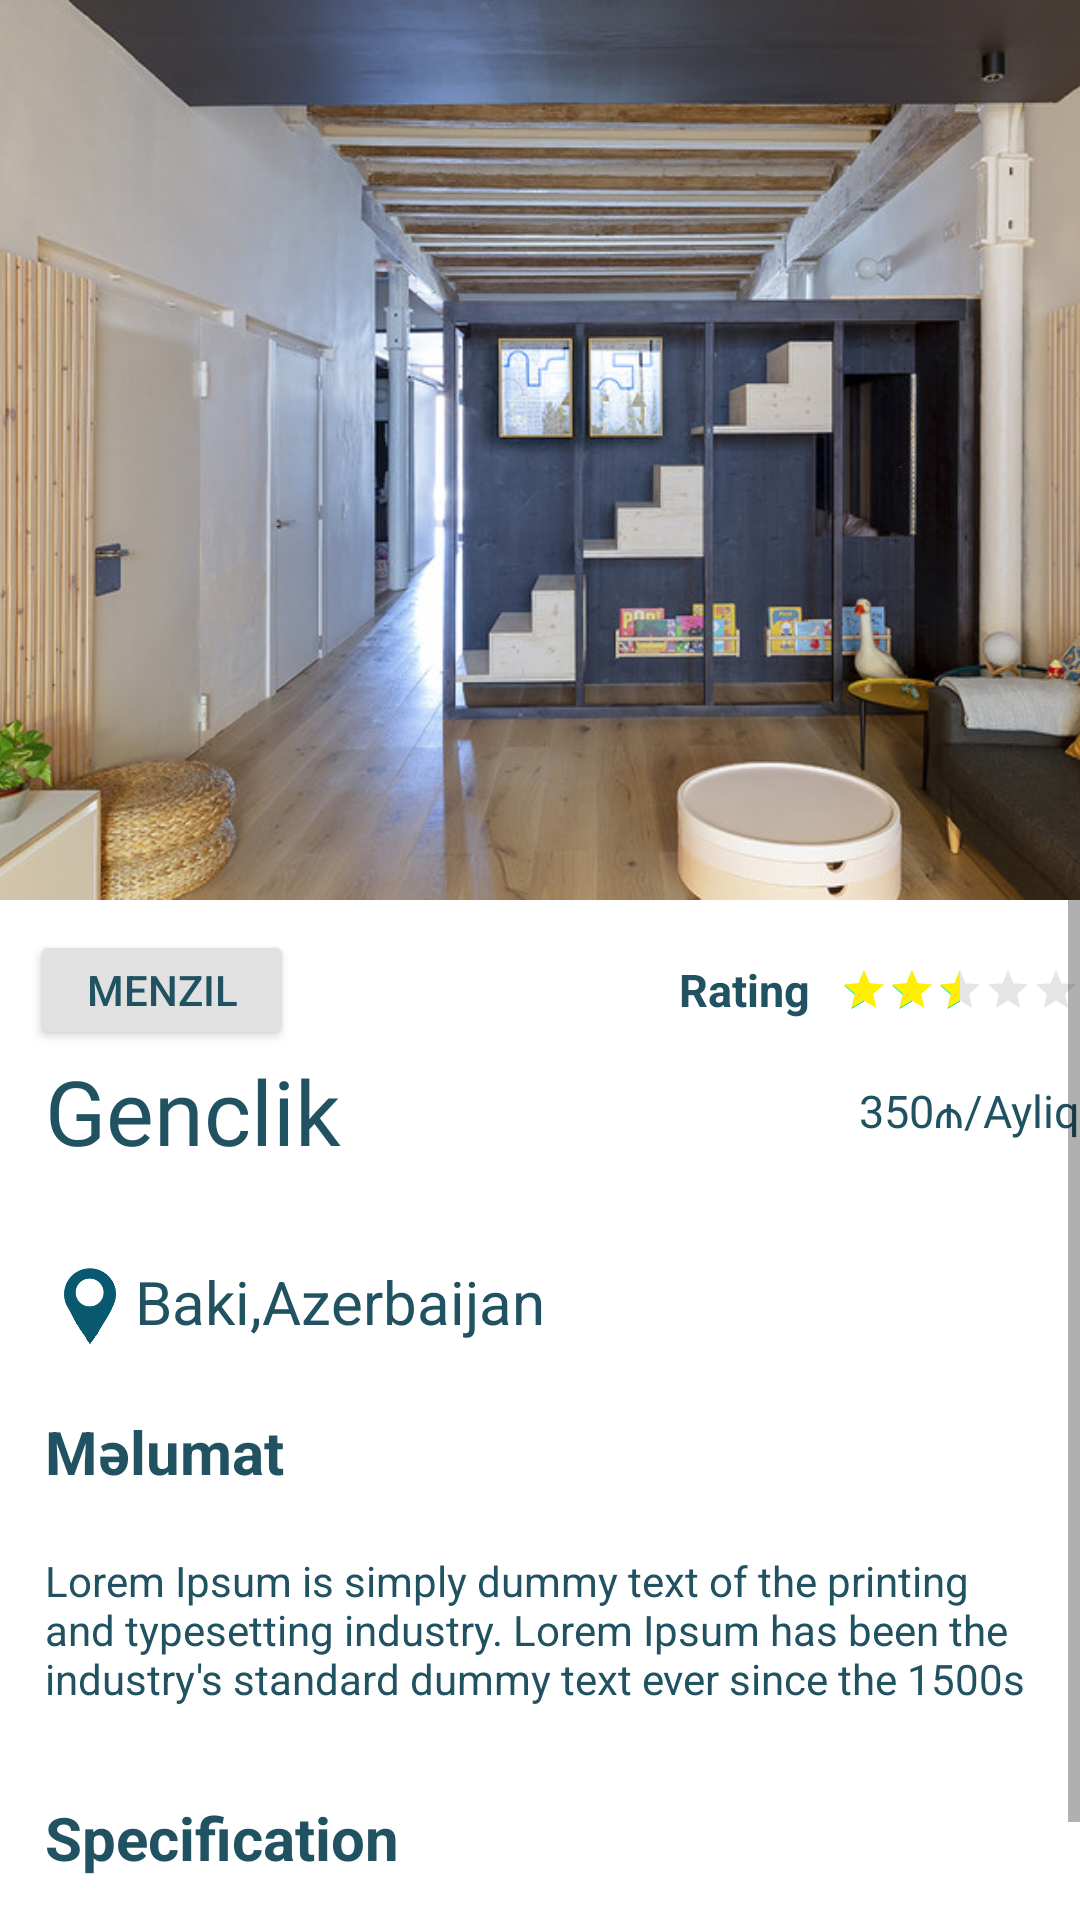

Screen size 1080*1920. Icon name, then its box in pixels as {"left": x1, "top": y1, "right": x2, "bottom": y2}:
locaticon: {"left": 64, "top": 1268, "right": 116, "bottom": 1344}
